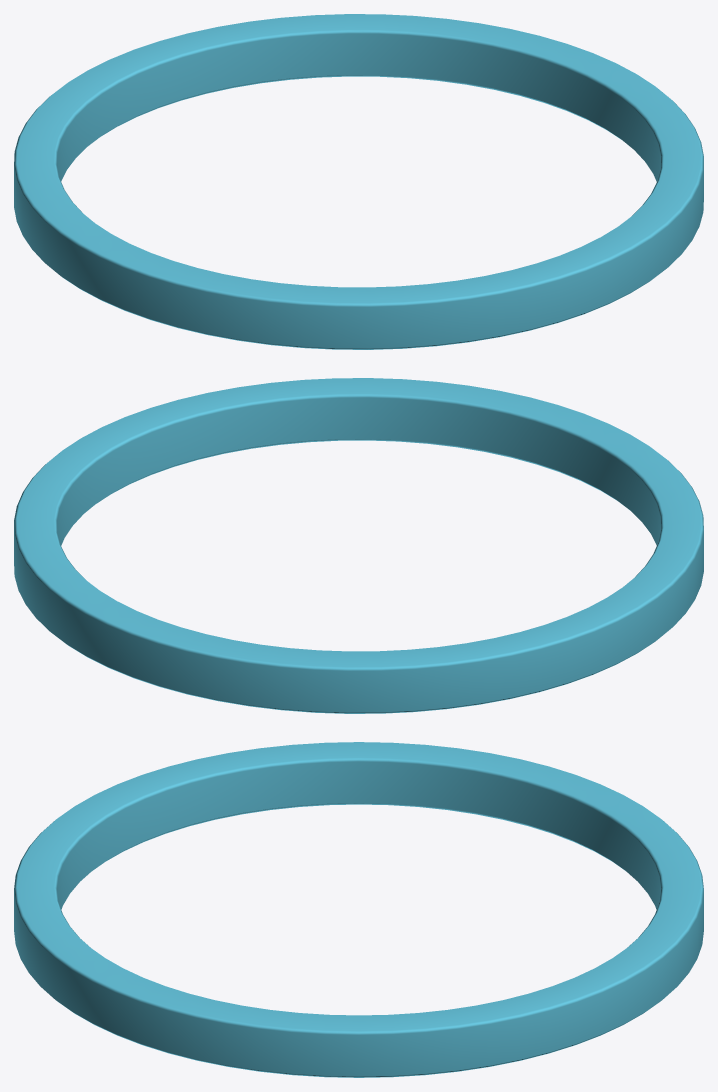
3 views of the same model, one above another, from view 1: azimuth 30°, elevation 25°; view 2: azimuth 150°, elevation 25°; view 3: azimuth 270°, elevation 25° (orthographic).
Visible parts, largest first — view 1: seal_body; view 2: seal_body; view 3: seal_body.
Part boxes in pixels (x1,y1,x2,y2): seal_body: (14,14,703,349); seal_body: (14,378,703,713); seal_body: (14,742,703,1077).
Bounding box in the file's own units: 0.16 × 0.012 × 0.16.
